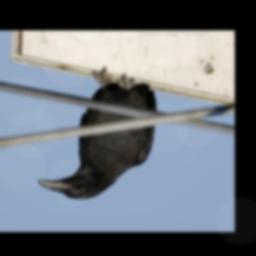Crow: (35, 67, 158, 201)
